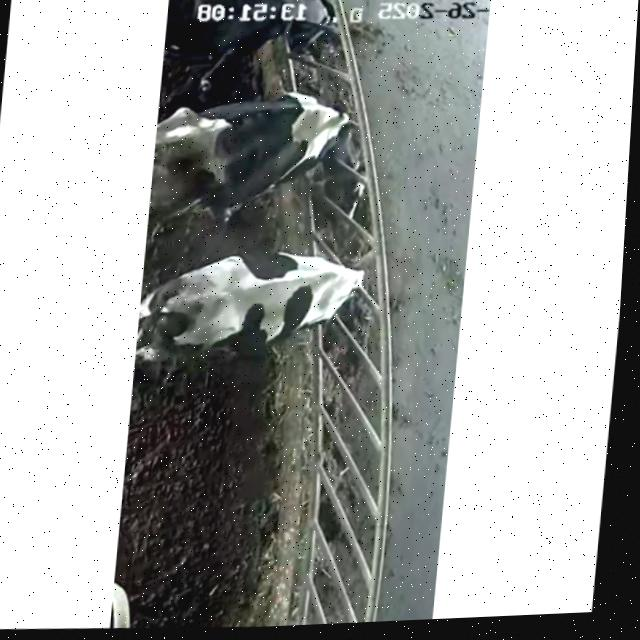eat: (243, 72, 406, 198), (256, 230, 405, 345), (228, 0, 377, 53)
